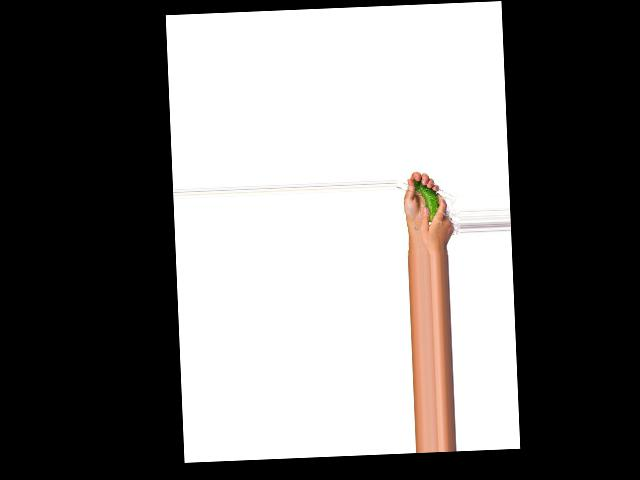cucumber: (413, 178, 440, 223)
